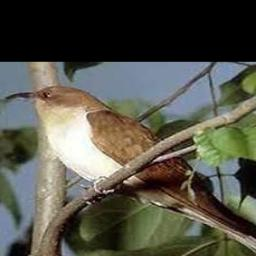Cuckoo: (4, 86, 256, 256)
